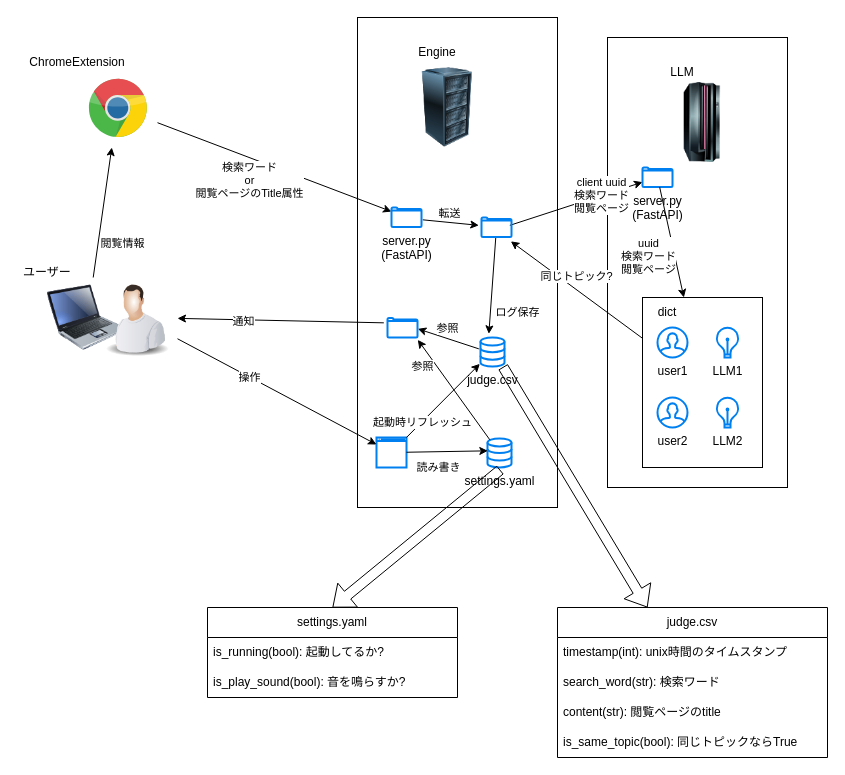
The diagram is 845 pixels wide and 775 high, and some of its shapes have lost their labels. The shapes that lost their labels are listed below. From the top down, each one's centre as x and y in pixels, then its label:
the point at 496,227: judge.py
the point at 402,327: notify.py
the point at 391,452: ui.py (flet)
